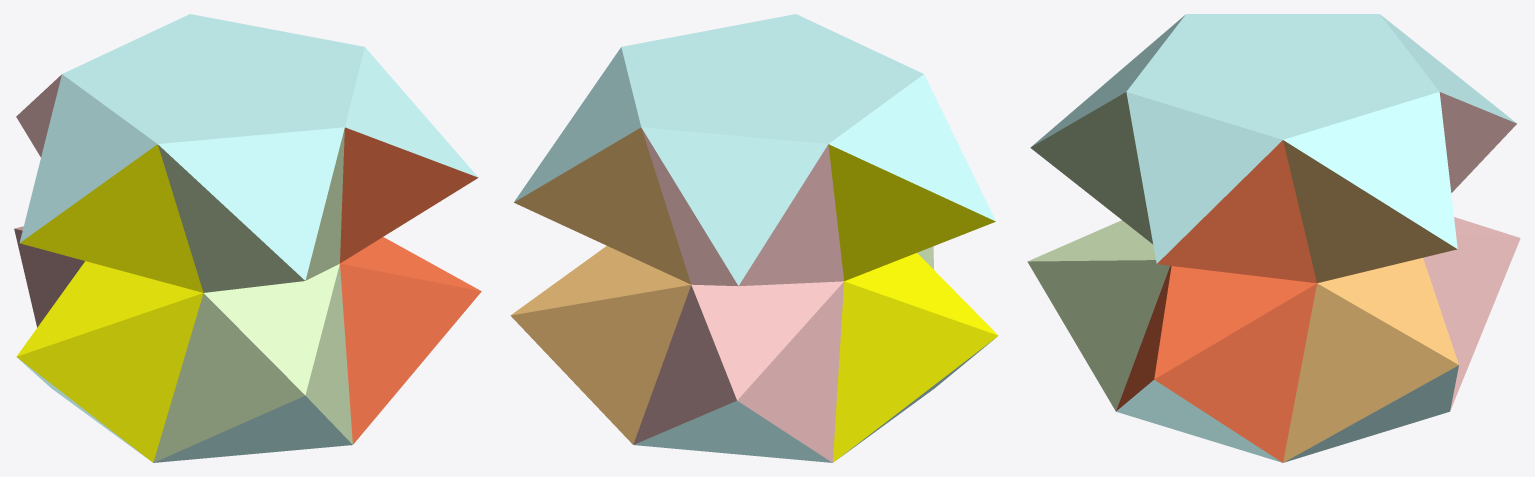
File: truc4.obj
3 views of the same model, side by side, from view 1: azimuth 30°, elevation 25°; view 2: azimuth 150°, elevation 25°; view 3: azimuth 270°, elevation 25° (orthographic).
Visible parts, largest first — view 1: Polygone1_couleur_204_256_256, Polygone1_couleur_256_256_001, Polygone1_couleur_230_256_204, Polygone1_couleur_256_121_074, Polygone1_couleur_256_204_204; view 2: Polygone1_couleur_204_256_256, Polygone1_couleur_256_204_204, Polygone1_couleur_256_204_128, Polygone1_couleur_256_256_001; view 3: Polygone1_couleur_204_256_256, Polygone1_couleur_256_121_074, Polygone1_couleur_256_204_128, Polygone1_couleur_230_256_204, Polygone1_couleur_256_204_204.
Part boxes in pixels (box(x1,y1,x2,y2)): Polygone1_couleur_204_256_256: box(17, 14, 478, 462); Polygone1_couleur_256_256_001: box(16, 144, 203, 462); Polygone1_couleur_230_256_204: box(153, 128, 352, 462); Polygone1_couleur_256_121_074: box(340, 127, 481, 444); Polygone1_couleur_256_204_204: box(14, 74, 84, 327); Polygone1_couleur_204_256_256: box(514, 14, 996, 462); Polygone1_couleur_256_204_204: box(633, 128, 843, 462); Polygone1_couleur_256_204_128: box(510, 127, 691, 444); Polygone1_couleur_256_256_001: box(828, 144, 998, 462); Polygone1_couleur_204_256_256: box(1031, 14, 1516, 462); Polygone1_couleur_256_121_074: box(1116, 140, 1316, 462); Polygone1_couleur_256_204_128: box(1283, 140, 1458, 462); Polygone1_couleur_230_256_204: box(1027, 92, 1169, 411); Polygone1_couleur_256_204_204: box(1423, 92, 1520, 410).
Bounding box in the file's own units: 2.77 × 2 × 2.81.
